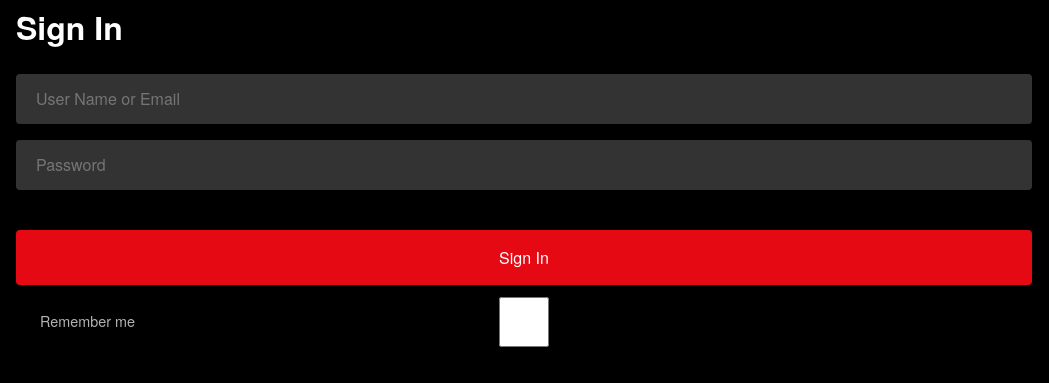
shows Required under the user and does not submit when it is empty
Step 1. Type "secret" into the password field named "password" → [524, 165], box [16,140,1032,190]
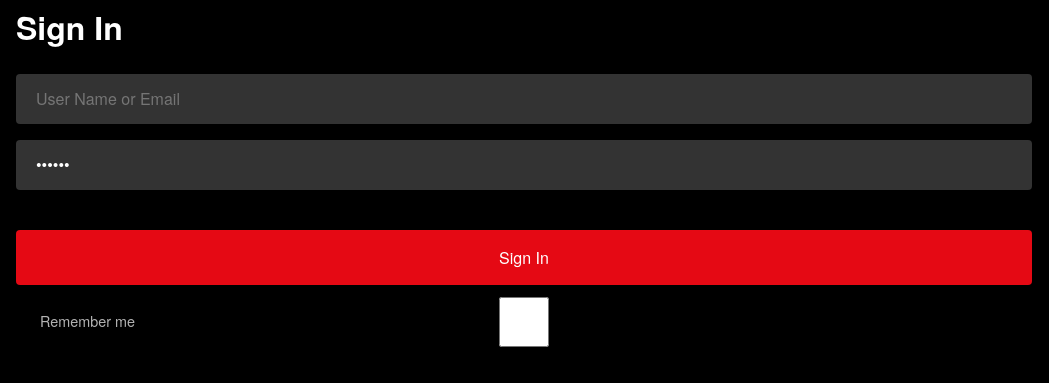
Step 2. Submit the form
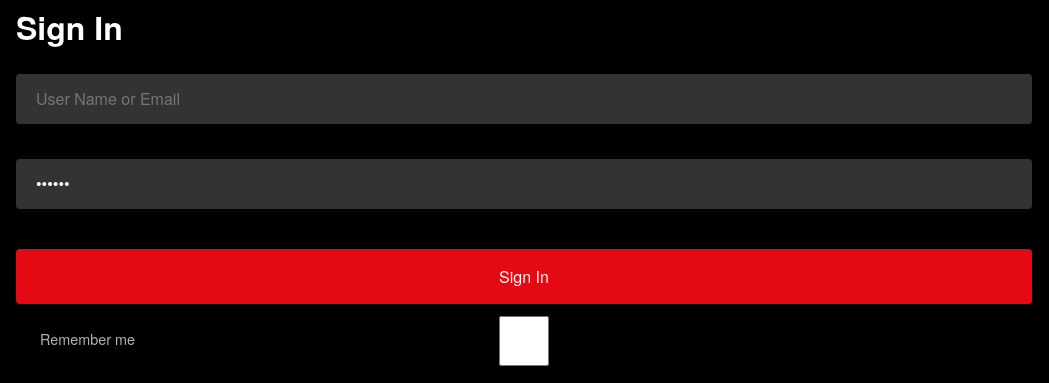
Expected: the text "Required" is shown, [16,121,81,144]
